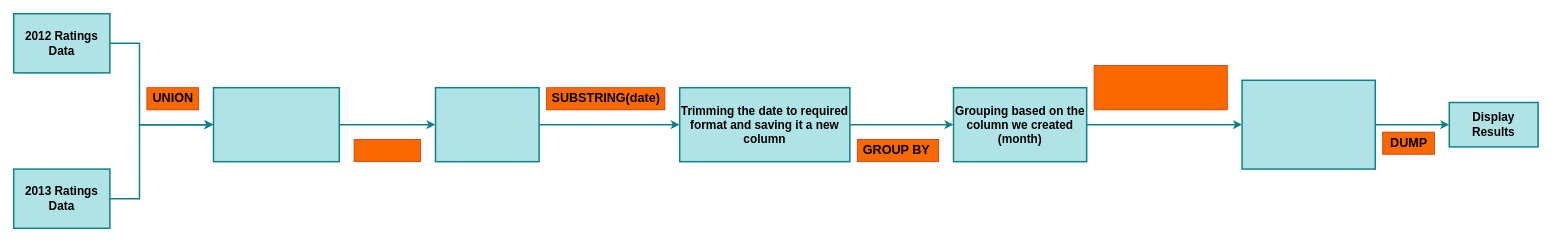
This 1551x241 diagram has some shape labels left out. The centre of each missing label's shape, as x and y in pixels:
"Calculating the Total feedback score for each group" belongs at pixel 1308 124.
"DISTINCT" belongs at pixel 387 150.
"FOREACH group GENERATE SUM(feedback_score)" belongs at pixel 1160 87.
"Integrating two datasets into 1 whole data" belongs at pixel 276 124.
"Removing any duplicate data if exists" belongs at pixel 486 124.
